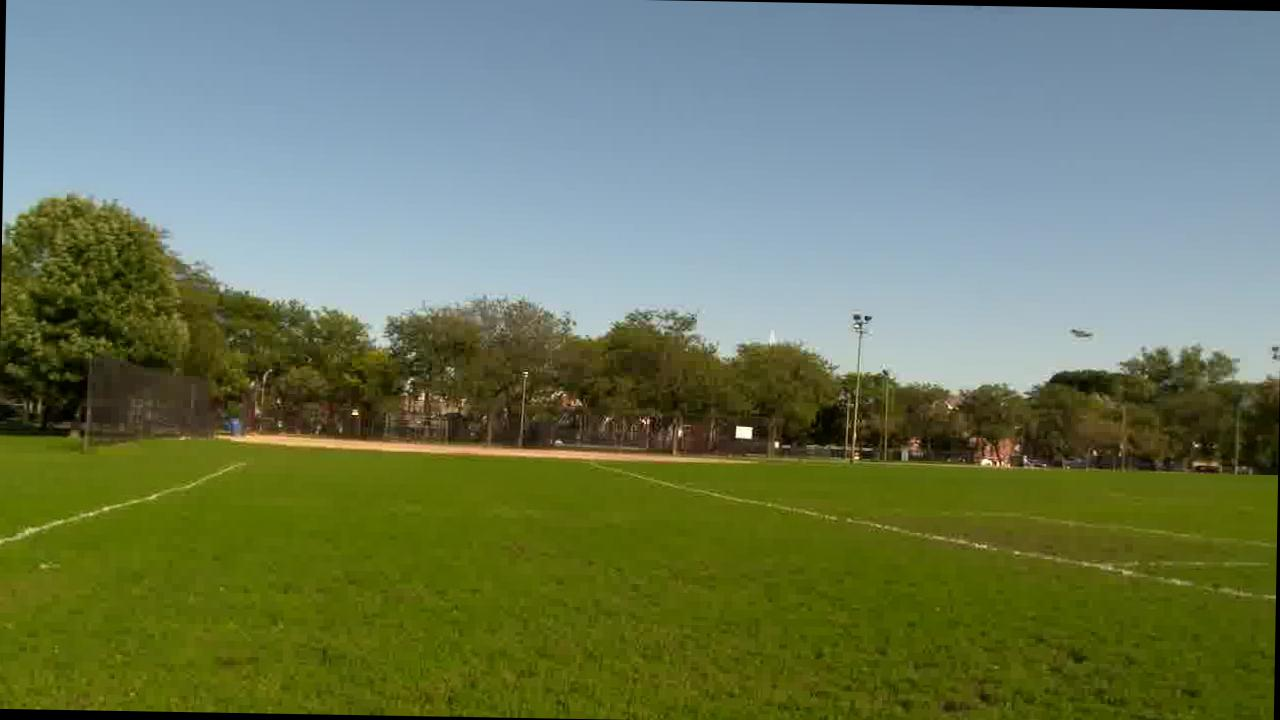drone: (1063, 313, 1099, 346)
